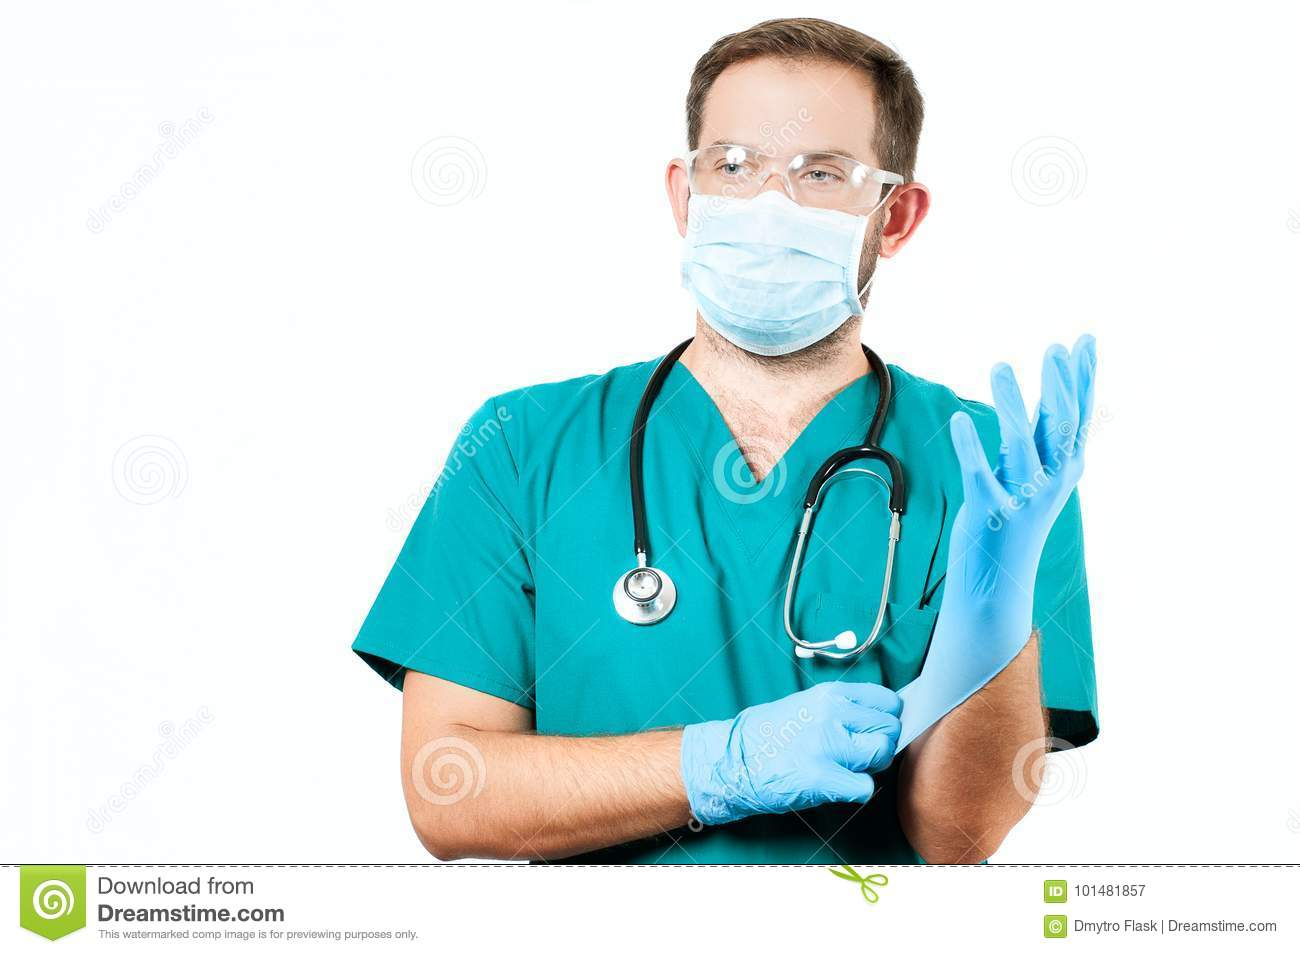mask: (676, 196, 870, 342)
